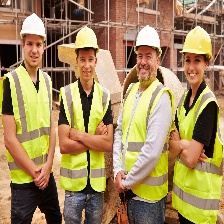helmet: (180, 25, 215, 59), (19, 13, 49, 41), (133, 26, 163, 54), (73, 28, 101, 55)
person: (1, 14, 57, 224), (118, 24, 173, 224), (58, 27, 113, 224), (173, 25, 220, 224)
vest: (3, 62, 55, 189), (176, 85, 223, 224), (60, 78, 111, 196), (123, 84, 172, 200)
